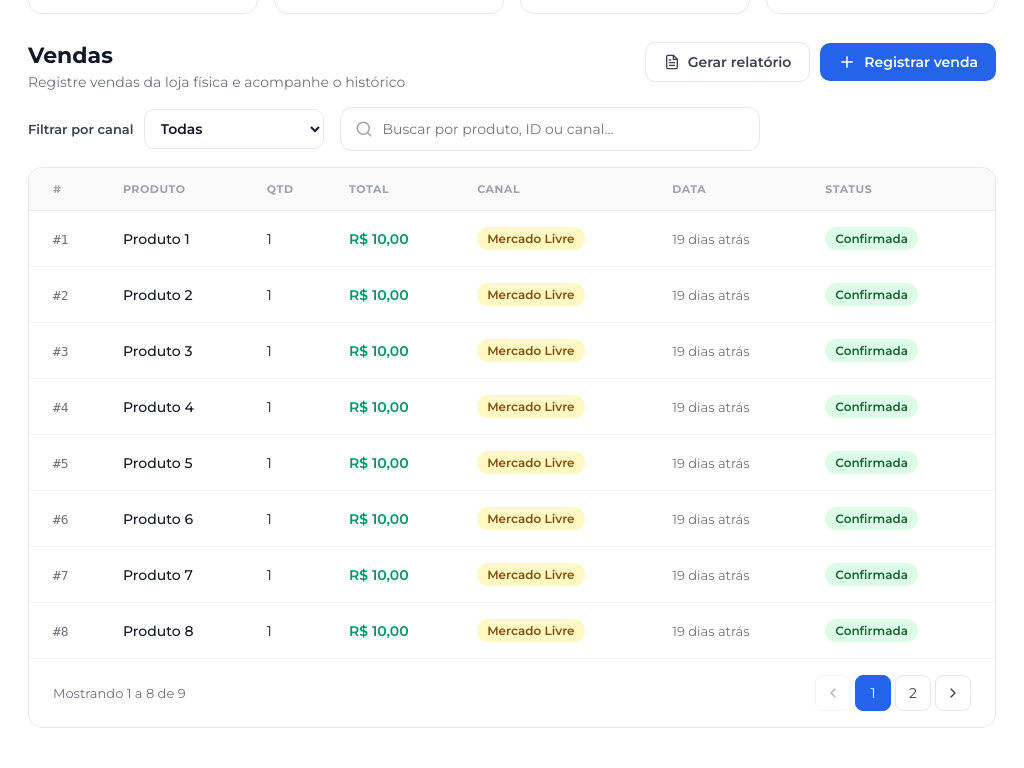
Test: OrdersScreen channel filter › returns to the first page when the filter changes
(page scrolled)
Expected: the text "Produto 1" is shown, [123,230,190,248]
Click the button named "Próxima página": (953, 693) [935,675,971,711]
(page scrolled)
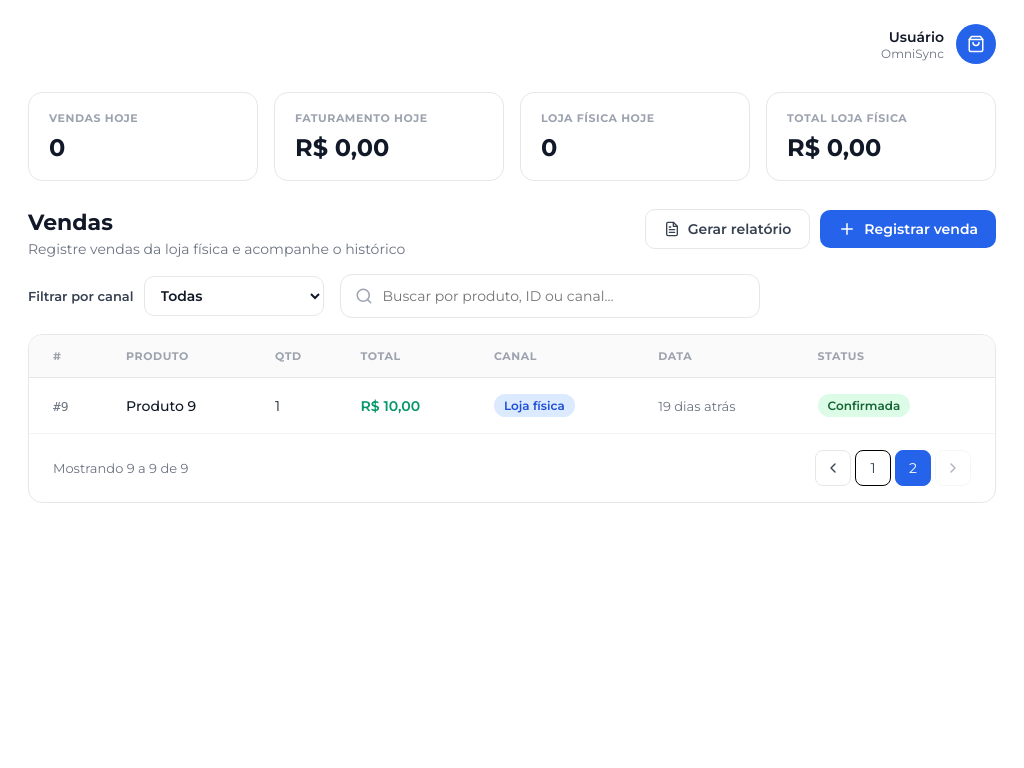
Now the text "Produto 9" is shown, box [126,396,196,414]
Select "Loja física" in the dropdown labelled "Filtrar por canal": (234, 296) [144,276,324,316]
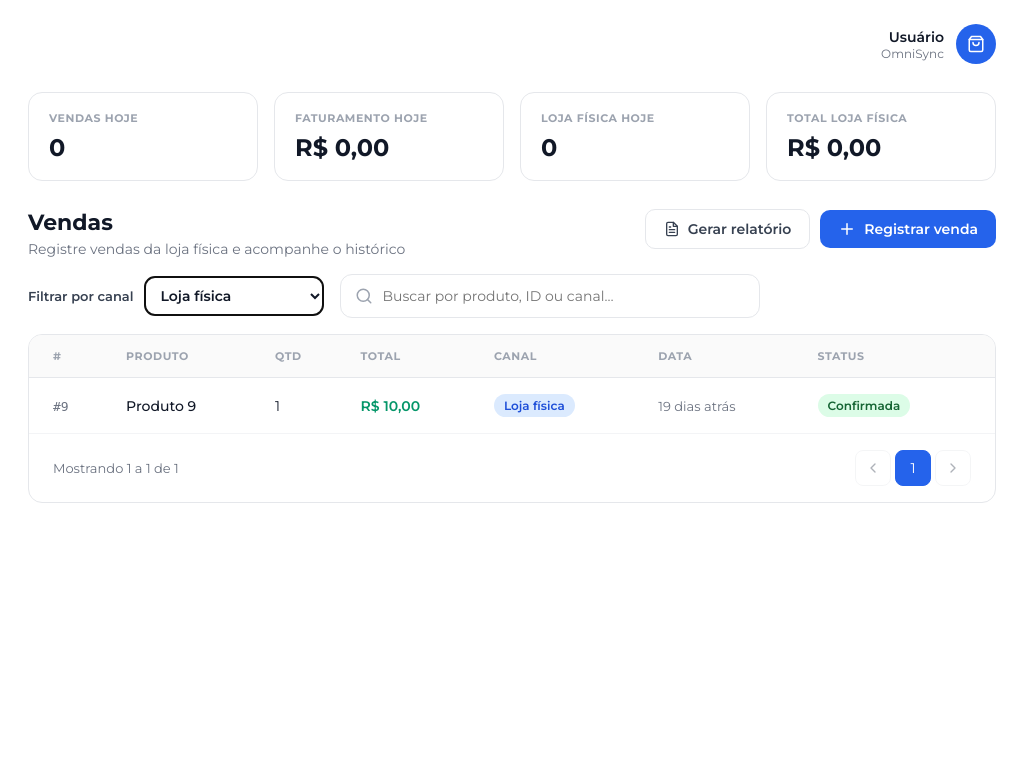
Now the text "Produto 9" is shown, box [126,396,196,414]
Now the text "Mostrando 1 a 1 de 1" is shown, box [53,460,179,476]
